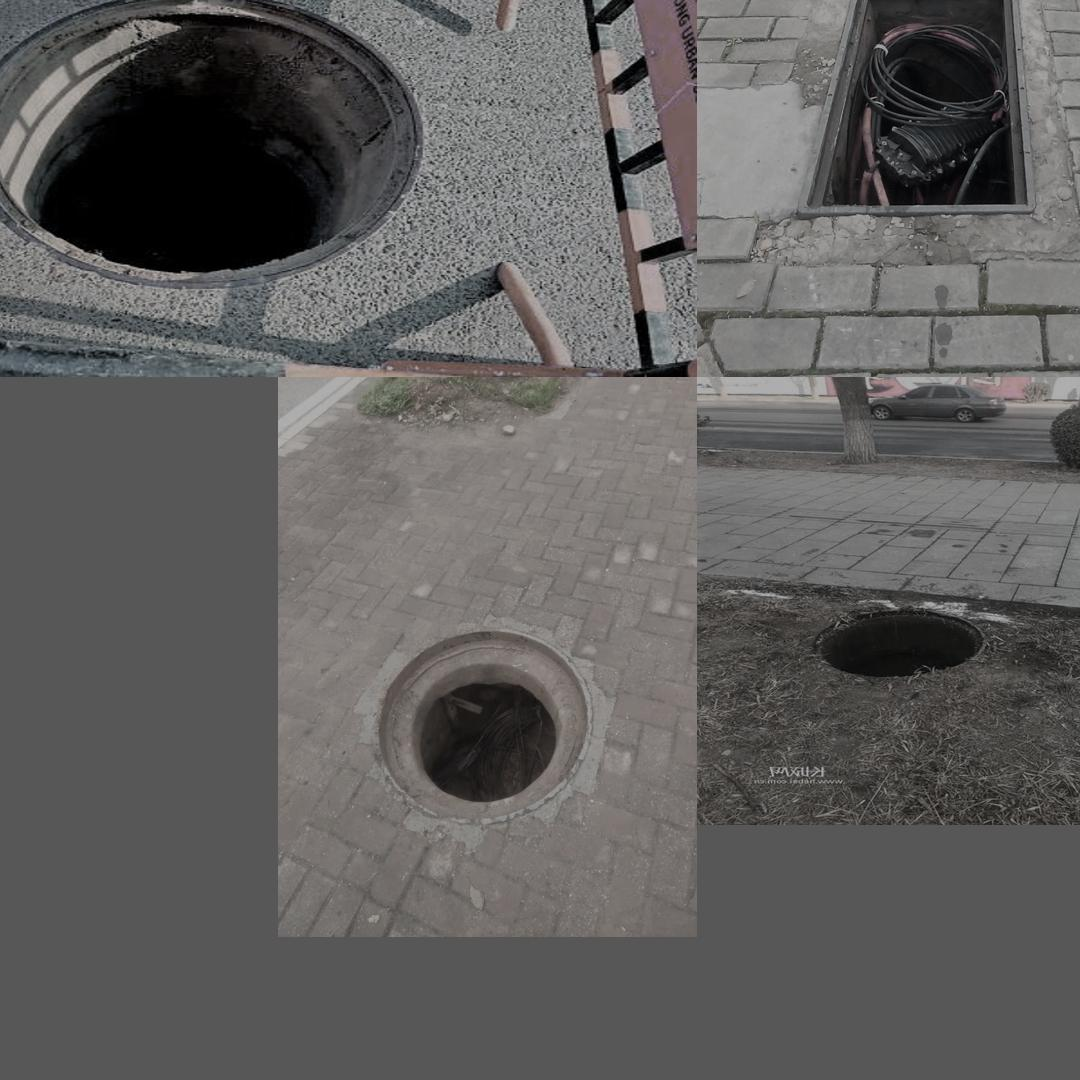lose: (0, 0, 433, 287), (790, 0, 1037, 220), (373, 627, 593, 826), (795, 599, 1016, 689)
